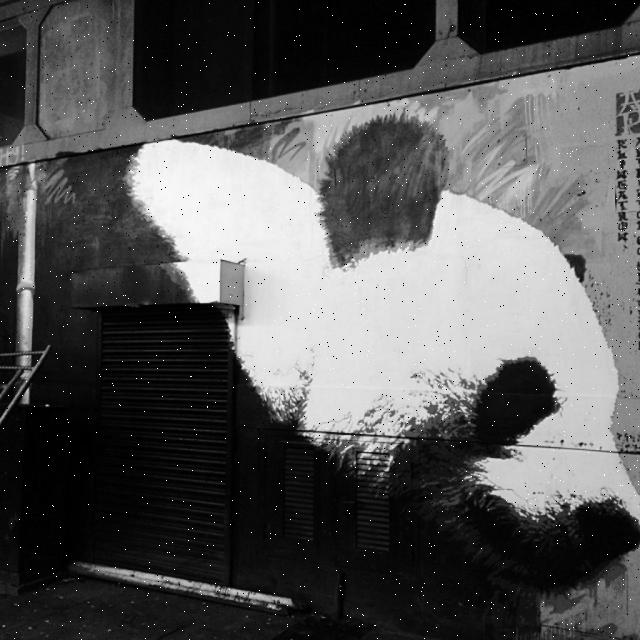panda: (65, 110, 639, 599)
